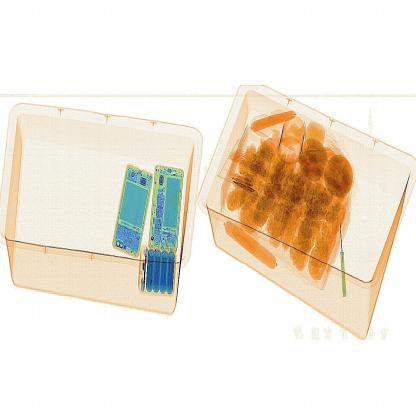wrench: (330, 209, 350, 304)
